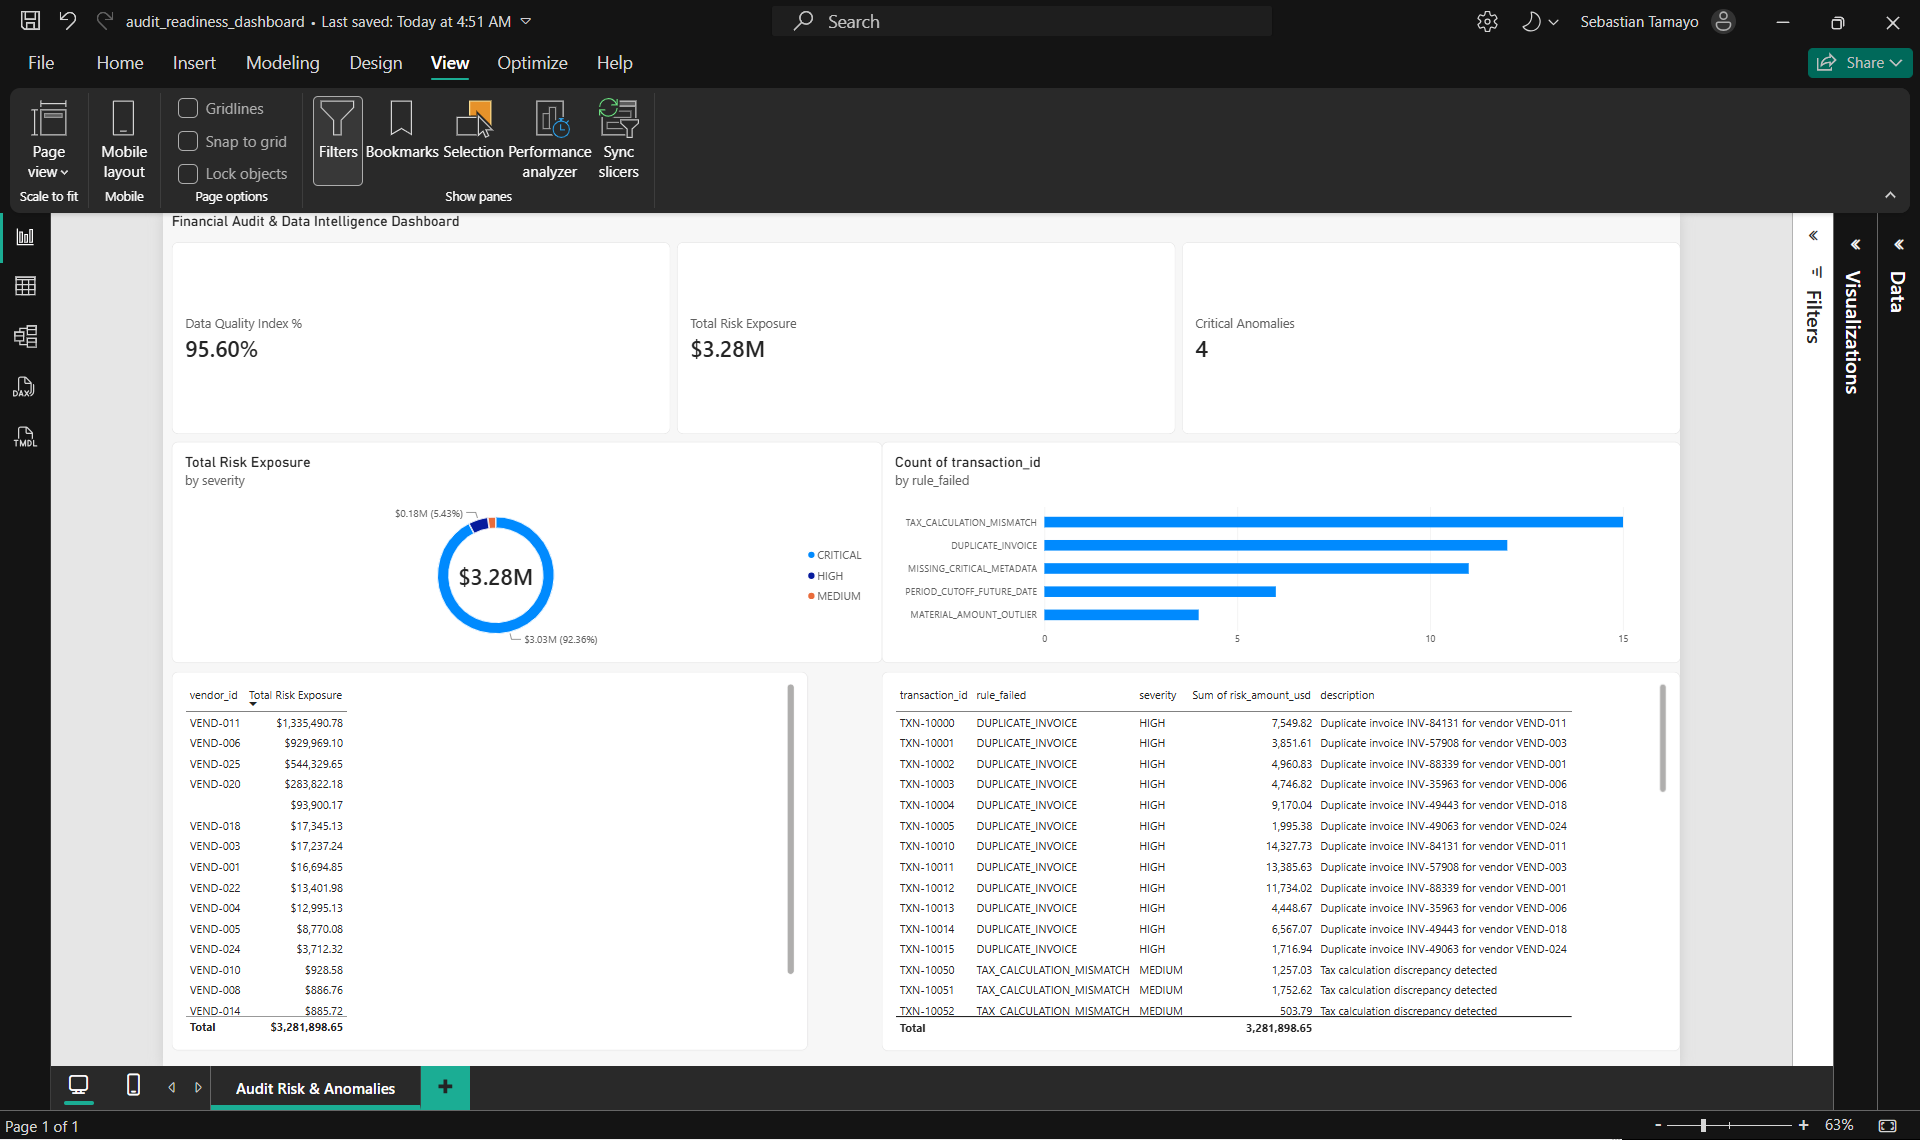

The page's visual inventory and layout, read from the dashboard file:
{"tool":"powerbi","page":{"name":"Audit Risk & Anomalies","canvas":[1920,1080],"ordinal":0},"visuals":[{"type":"cardVisual","fields":{"Data":["audit_anomaly_log.Data Quality Index %","audit_anomaly_log.Total Risk Exposure","audit_anomaly_log.Critical Anomalies"]},"box":[10.3,0,1910.1,279.9],"z":0},{"type":"donutChart","fields":{"Category":["audit_anomaly_log.severity"],"Y":["audit_anomaly_log.Total Risk Exposure"]},"box":[10.3,290.2,899.5,279.9],"z":1},{"type":"clusteredBarChart","fields":{"Category":["audit_anomaly_log.rule_failed"],"Y":["CountNonNull(audit_anomaly_log.transaction_id)"]},"box":[909.8,290.2,1011,280],"z":2},{"type":"tableEx","fields":{"Values":["cleaned_transactions.vendor_id","audit_anomaly_log.Total Risk Exposure"]},"box":[10.3,580.4,804.8,479.6],"z":3},{"type":"tableEx","fields":{"Values":["audit_anomaly_log.transaction_id","audit_anomaly_log.rule_failed","audit_anomaly_log.severity","Sum(audit_anomaly_log.risk_amount_usd)","audit_anomaly_log.description"]},"box":[910,580,1010,480],"z":4}]}

Visuals, with their boxes on the page's 1920x1080 design canvas (x1, y1, x2, y2). These are canvas units, not pixel positions in the 1920x1140 screenshot, which may show the page scaled, cropped or inside an application window:
cardVisual - audit_anomaly_log.Data Quality Index % x audit_anomaly_log.Total Risk Exposure: region(10, 0, 1920, 280)
donutChart - audit_anomaly_log.severity x audit_anomaly_log.Total Risk Exposure: region(10, 290, 910, 570)
clusteredBarChart - audit_anomaly_log.rule_failed x CountNonNull(audit_anomaly_log.transaction_id): region(910, 290, 1921, 570)
tableEx - cleaned_transactions.vendor_id x audit_anomaly_log.Total Risk Exposure: region(10, 580, 815, 1060)
tableEx - audit_anomaly_log.transaction_id x audit_anomaly_log.rule_failed: region(910, 580, 1920, 1060)
